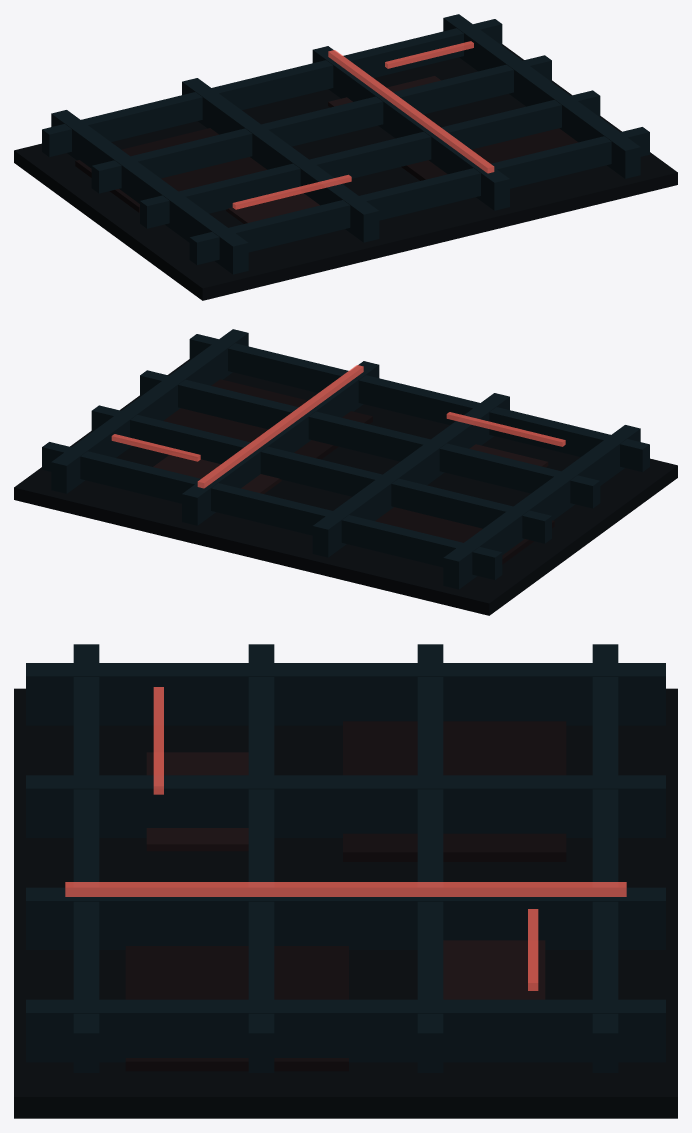
Rendered from hp_room_ceiling_panel_core.glb.
The picture shows the model from 3 angles, top to bottom: view 1: azimuth 30°, elevation 25°; view 2: azimuth 150°, elevation 25°; view 3: azimuth 270°, elevation 25°; orthographic projection. The views are drawn at different scales.
Parts seen in each view (by area): view 1: core_ceiling_shadow_backplate, core_ceiling_cross_beam_0.86, core_ceiling_cross_beam_-0.28, core_ceiling_cross_beam_-0.86, core_ceiling_cross_beam_0.28, core_ceiling_long_beam_-1.32, core_ceiling_long_beam_1.32, core_ceiling_long_beam_-0.44, core_ceiling_long_beam_0.44, core_ceiling_recess_left, core_ceiling_recess_right, core_ceiling_cyan_spine (+4 smaller); view 2: core_ceiling_shadow_backplate, core_ceiling_cross_beam_-0.86, core_ceiling_cross_beam_0.28, core_ceiling_cross_beam_0.86, core_ceiling_cross_beam_-0.28, core_ceiling_long_beam_-1.32, core_ceiling_long_beam_-0.44, core_ceiling_long_beam_1.32, core_ceiling_long_beam_0.44, core_ceiling_recess_right, core_ceiling_recess_left, core_ceiling_cyan_spine (+4 smaller); view 3: core_ceiling_shadow_backplate, core_ceiling_long_beam_1.32, core_ceiling_long_beam_-1.32, core_ceiling_long_beam_-0.44, core_ceiling_long_beam_0.44, core_ceiling_recess_left, core_ceiling_recess_right, core_ceiling_cross_beam_-0.86, core_ceiling_cross_beam_-0.28, core_ceiling_cross_beam_0.28, core_ceiling_cross_beam_0.86, core_ceiling_cyan_spine (+4 smaller).
Boxes of the visible parts, box(x1,y1,x2,y2) form: core_ceiling_shadow_backplate: box(14, 44, 677, 300); core_ceiling_cross_beam_0.86: box(189, 127, 649, 264); core_ceiling_cross_beam_-0.28: box(91, 55, 551, 193); core_ceiling_cross_beam_-0.86: box(42, 19, 502, 156); core_ceiling_cross_beam_0.28: box(140, 90, 600, 228); core_ceiling_long_beam_-1.32: box(51, 110, 248, 274); core_ceiling_long_beam_1.32: box(443, 14, 640, 178); core_ceiling_long_beam_-0.44: box(182, 78, 379, 242); core_ceiling_long_beam_0.44: box(312, 46, 509, 210); core_ceiling_recess_left: box(75, 128, 266, 212); core_ceiling_recess_right: box(401, 128, 578, 180); core_ceiling_cyan_spine: box(328, 50, 494, 173); core_ceiling_shadow_backplate: box(14, 359, 677, 615); core_ceiling_cross_beam_-0.86: box(42, 442, 502, 579); core_ceiling_cross_beam_0.28: box(140, 370, 600, 508); core_ceiling_cross_beam_0.86: box(189, 334, 649, 471); core_ceiling_cross_beam_-0.28: box(91, 405, 551, 543); core_ceiling_long_beam_-1.32: box(443, 425, 640, 589); core_ceiling_long_beam_-0.44: box(312, 393, 509, 557); core_ceiling_long_beam_1.32: box(51, 329, 248, 493); core_ceiling_long_beam_0.44: box(182, 361, 379, 525); core_ceiling_recess_right: box(163, 379, 372, 459); core_ceiling_recess_left: box(375, 507, 554, 564); core_ceiling_cyan_spine: box(197, 365, 363, 488); core_ceiling_shadow_backplate: box(14, 688, 677, 1118); core_ceiling_long_beam_1.32: box(26, 999, 665, 1062); core_ceiling_long_beam_-1.32: box(26, 663, 665, 725); core_ceiling_long_beam_-0.44: box(26, 775, 665, 837); core_ceiling_long_beam_0.44: box(26, 887, 665, 949); core_ceiling_recess_left: box(343, 721, 566, 861); core_ceiling_recess_right: box(125, 946, 348, 1071); core_ceiling_cross_beam_-0.86: box(592, 644, 618, 1072); core_ceiling_cross_beam_-0.28: box(417, 644, 443, 1072); core_ceiling_cross_beam_0.28: box(248, 644, 274, 1072); core_ceiling_cross_beam_0.86: box(73, 644, 99, 1072); core_ceiling_cyan_spine: box(65, 882, 626, 896).
Bounding box in the file's own units: 3.2 × 0.315 × 2.2.
